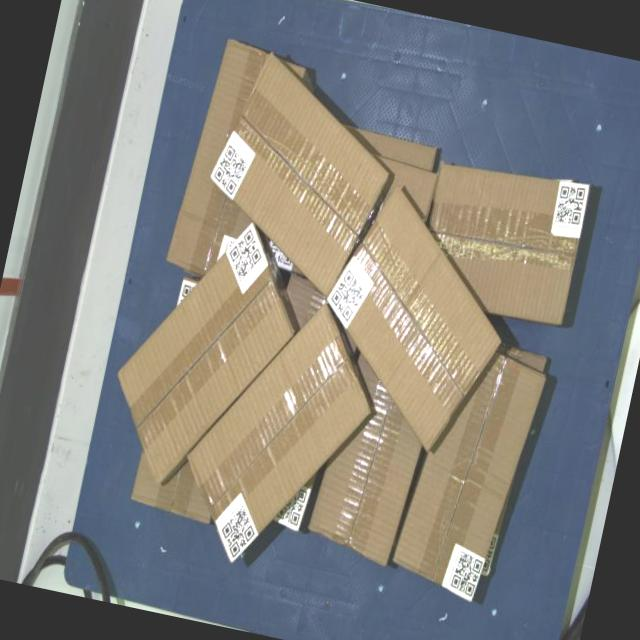box: (166, 282, 390, 586), (95, 200, 315, 508), (299, 174, 528, 462), (188, 45, 408, 306), (387, 338, 549, 610), (413, 153, 591, 327)
